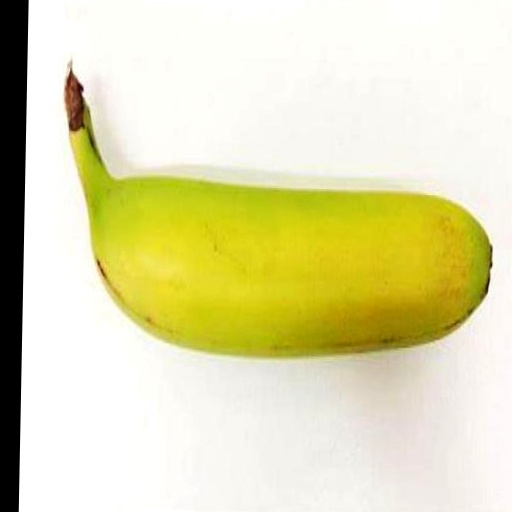fruit: (65, 70, 491, 356)
